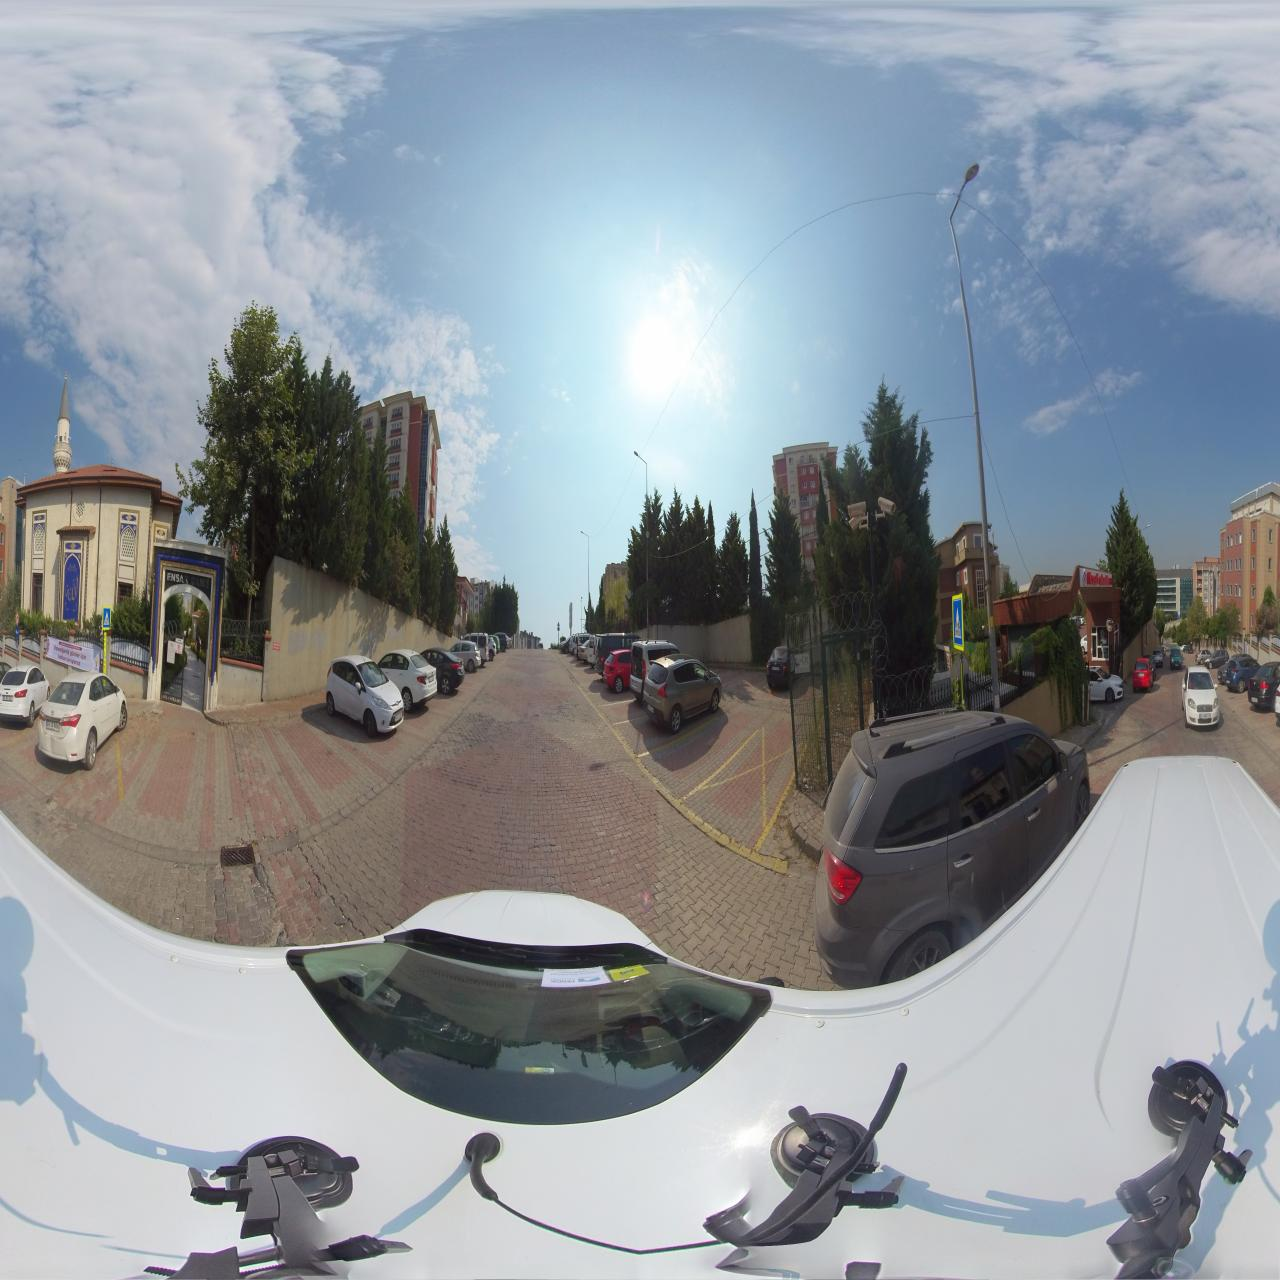SignStore: (1082, 567, 1112, 587)
